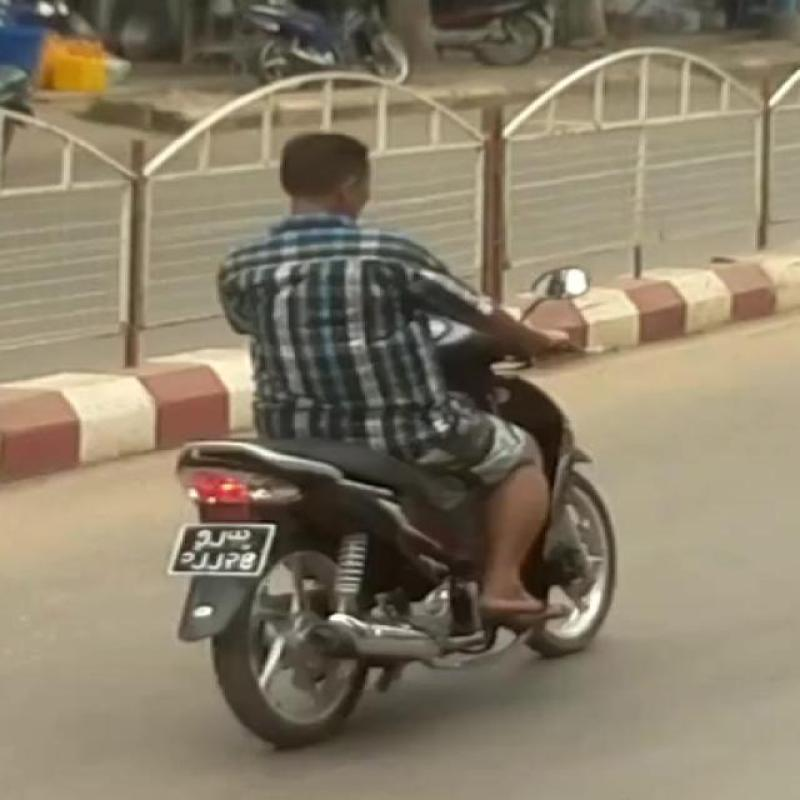nohelmet: (266, 122, 406, 233)
